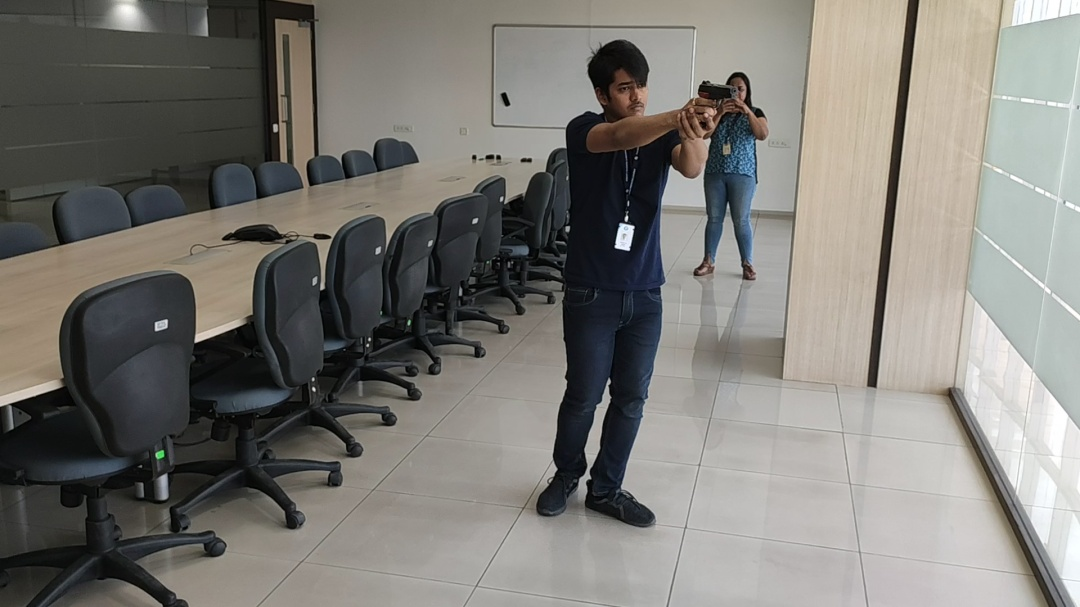gun: (696, 76, 742, 102)
